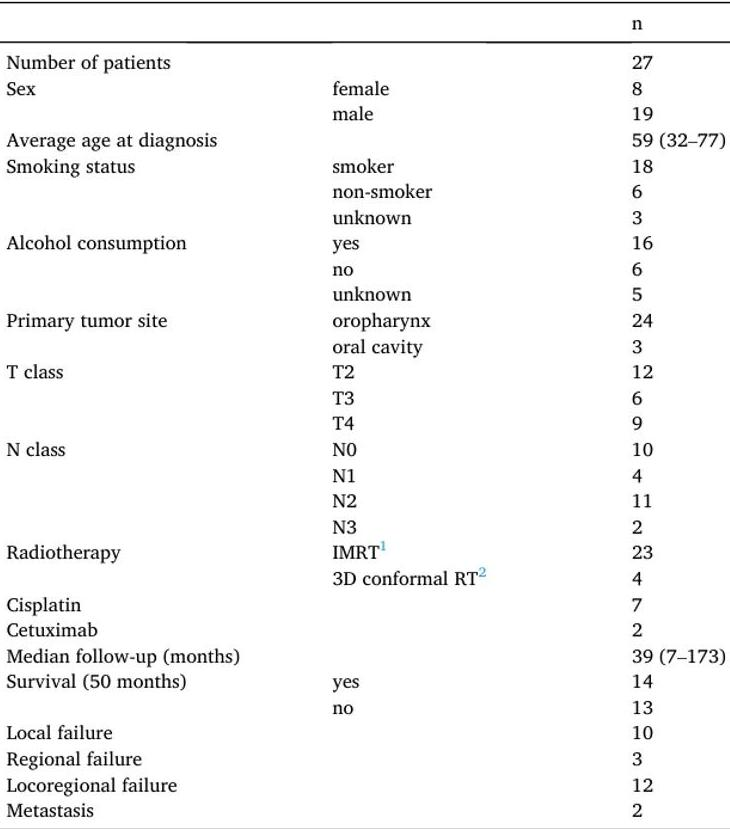table: (5, 5, 725, 824)
table column: (258, 5, 557, 824), (5, 5, 258, 824), (557, 5, 725, 824)
table column header: (5, 5, 725, 40)
table row: (5, 5, 725, 40), (5, 40, 725, 73), (5, 795, 725, 824), (5, 562, 725, 589), (5, 73, 725, 99), (5, 99, 725, 125), (5, 125, 725, 151), (5, 176, 725, 202), (5, 202, 725, 228), (5, 228, 725, 254), (5, 279, 725, 305), (5, 305, 725, 331), (5, 331, 725, 357), (5, 357, 725, 383), (5, 408, 725, 434), (5, 434, 725, 460), (5, 460, 725, 486), (5, 511, 725, 537), (5, 589, 725, 615), (5, 615, 725, 641), (5, 641, 725, 667), (5, 692, 725, 718), (5, 718, 725, 744), (5, 744, 725, 770), (5, 151, 725, 176), (5, 254, 725, 279), (5, 383, 725, 408), (5, 486, 725, 511), (5, 537, 725, 562), (5, 667, 725, 692), (5, 770, 725, 795)
table spanning cell: (5, 434, 258, 537), (5, 151, 258, 228), (5, 228, 258, 305), (5, 357, 258, 434), (5, 40, 557, 73), (5, 795, 557, 824), (5, 125, 557, 151), (5, 589, 557, 615), (5, 615, 557, 641), (5, 641, 557, 667), (5, 718, 557, 744), (5, 744, 557, 770), (5, 770, 557, 795), (5, 73, 258, 125), (5, 305, 258, 357), (5, 537, 258, 589), (5, 667, 258, 718)
